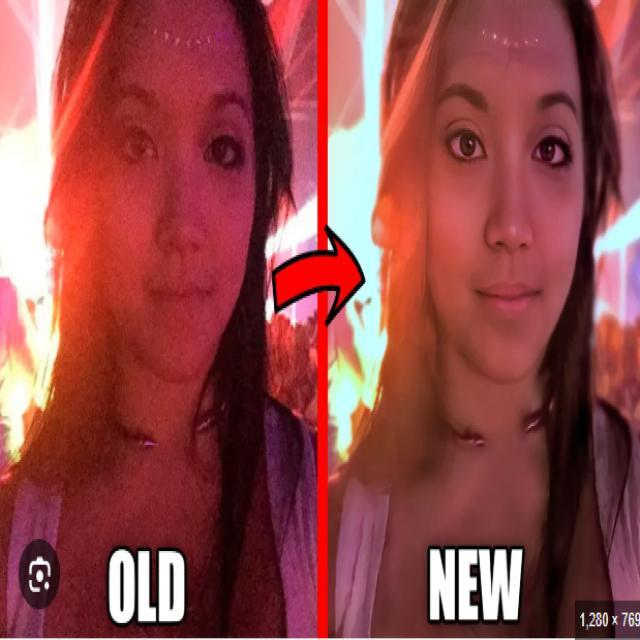face_no_mask: (419, 0, 593, 377), (96, 0, 258, 363)
